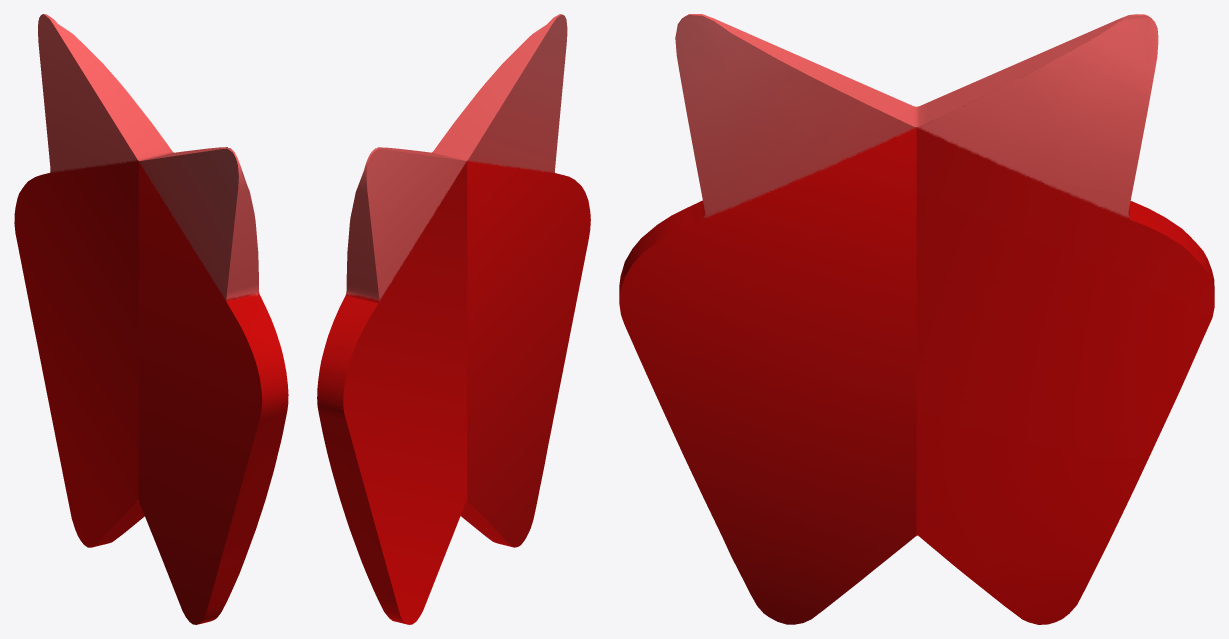
File: Pin_WebXR.glb
3 renders of one model, left to right at view 1: azimuth 30°, elevation 25°; view 2: azimuth 150°, elevation 25°; view 3: azimuth 270°, elevation 25°, orthographic. The views are drawn at different scales.
Parts seen in each view (by area): view 1: image.002; view 2: image.002; view 3: image.002.
Boxes of the visible parts, x1,y1,x2,y2 form: image.002: [14, 14, 288, 624]; image.002: [317, 14, 590, 624]; image.002: [619, 14, 1214, 624].
Bounding box in the file's own units: 0.0839 × 0.8963 × 0.8033.
Materials: 1 (1 with a texture image).
